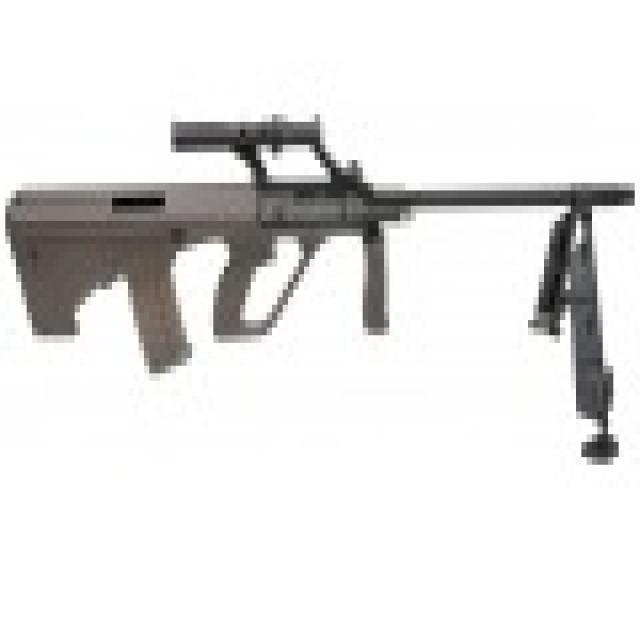Gun: (26, 73, 640, 443)
